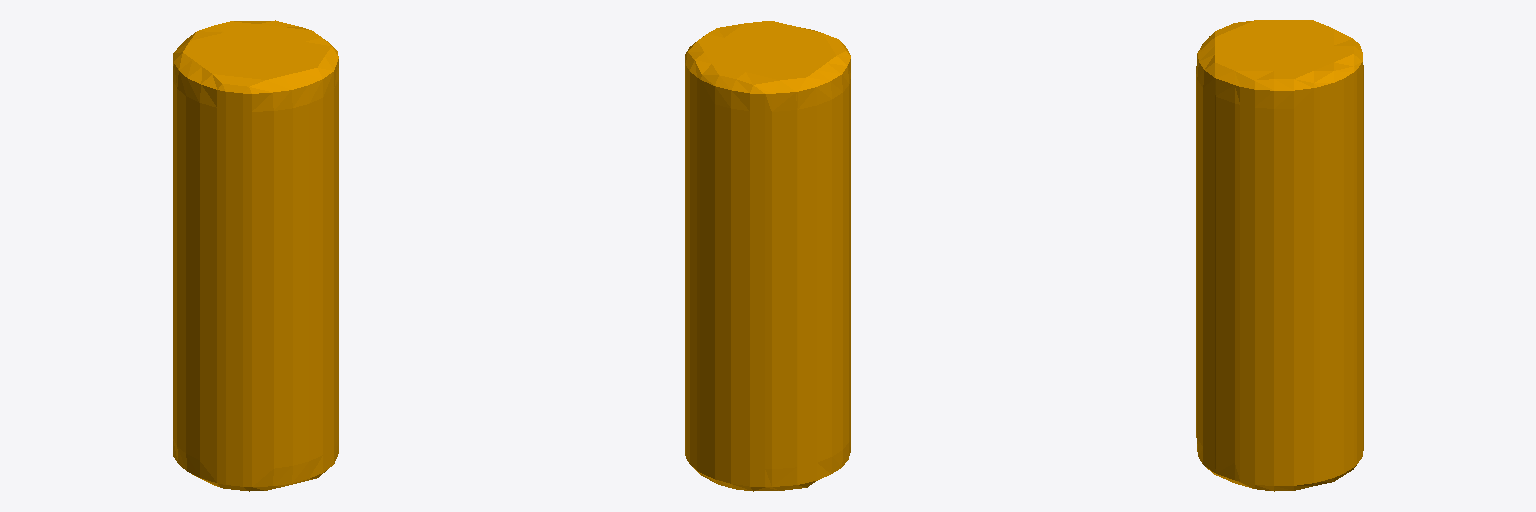
robot.urdf — cylinder_../../meshes/cylinders/cylinder_21.stl:
<?xml version="1.0" encoding="utf-8"?>  <robot name="cylinder_../../meshes/cylinders/cylinder_21.stl">   <link name="cylinder_../../meshes/cylinders/cylinder_21.stl">     <visual>       <geometry>         <mesh filename="../meshes/cylinders/cylinder_21.stl" scale="1 1 1"/>       </geometry>     </visual>     <collision>       <geometry>         <mesh filename="../meshes/cylinders/cylinder_21.stl" scale="1 1 1"/>       </geometry>     </collision>     <inertial>        <origin         xyz="0 0 0"         rpy="0 0 0" />       <mass value="0.15916766124404272"/>       <origin rpy="0 0 0" xyz="0 0 0"/>       <inertia ixx="0.0001904070884693007" ixy="-2.1345041844422342e-08" ixz="-9.322746072703483e-09" iyy="0.00019040691230884176" iyz="-1.509897679275758e-08" izz="3.513994655018191e-05"/>     </inertial>   </link>  </robot>

--- Render facts (derived) ---
Views: 3 orthographic renders of the robot side by side, from view 1: azimuth 30°, elevation 25°; view 2: azimuth 150°, elevation 25°; view 3: azimuth 270°, elevation 25°.
Robot: cylinder_../../meshes/cylinders/cylinder_21.stl — 1 links, 0 joints (none); root link cylinder_../../meshes/cylinders/cylinder_21.stl; default pose: all joints at 0.
Visible links, largest first — view 1: cylinder_../../meshes/cylinders/cylinder_21.stl; view 2: cylinder_../../meshes/cylinders/cylinder_21.stl; view 3: cylinder_../../meshes/cylinders/cylinder_21.stl.
Boxes of the visible links, bbox=[...] form: cylinder_../../meshes/cylinders/cylinder_21.stl: bbox=[173, 20, 338, 491]; cylinder_../../meshes/cylinders/cylinder_21.stl: bbox=[685, 21, 850, 491]; cylinder_../../meshes/cylinders/cylinder_21.stl: bbox=[1196, 20, 1363, 491].
Size in the robot's own frame: 0.0423 by 0.0423 by 0.1149 metres.
1 mesh visuals loaded from 1 distinct referenced files (1 binary STL).